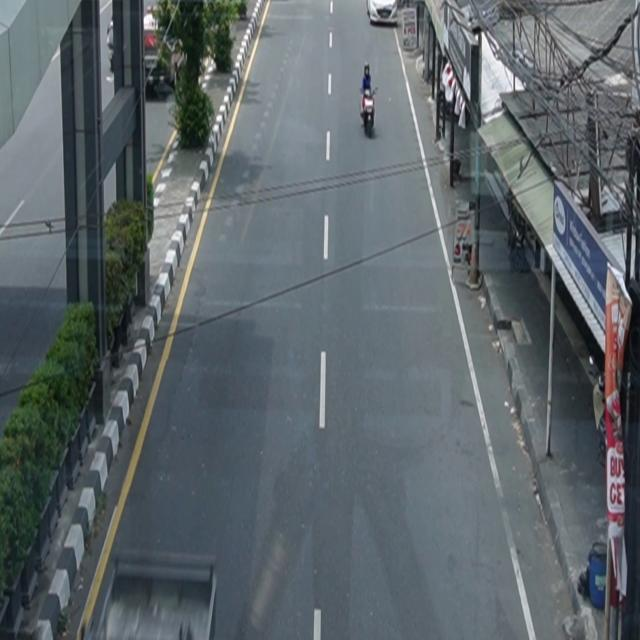bus: (107, 5, 186, 98)
car: (367, 1, 398, 26)
